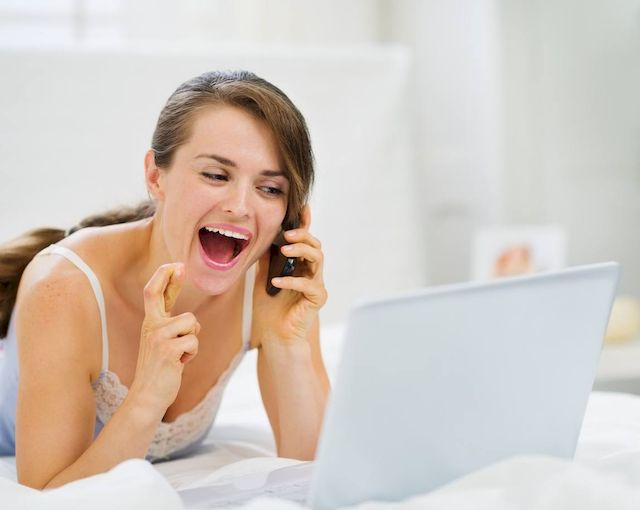phone: (271, 189, 315, 291)
talk: (169, 148, 328, 327)
